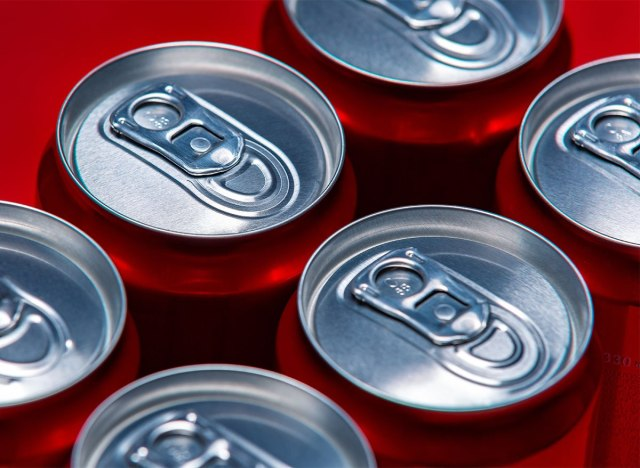can: (273, 200, 602, 468), (35, 39, 359, 300), (259, 1, 574, 152), (492, 53, 640, 307), (1, 201, 141, 468), (67, 362, 380, 468)
